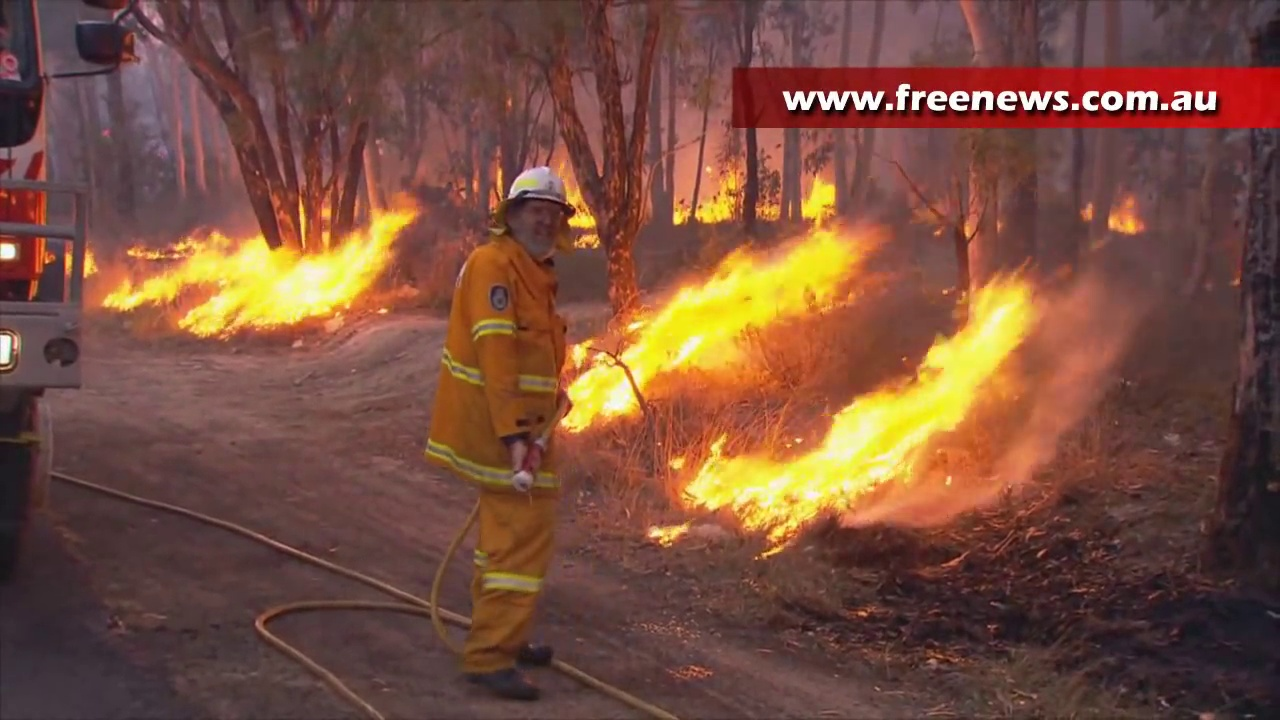fire: (691, 279, 1047, 520), (564, 223, 865, 427), (107, 229, 376, 337), (678, 197, 733, 220), (804, 180, 837, 217), (1109, 197, 1140, 233)
